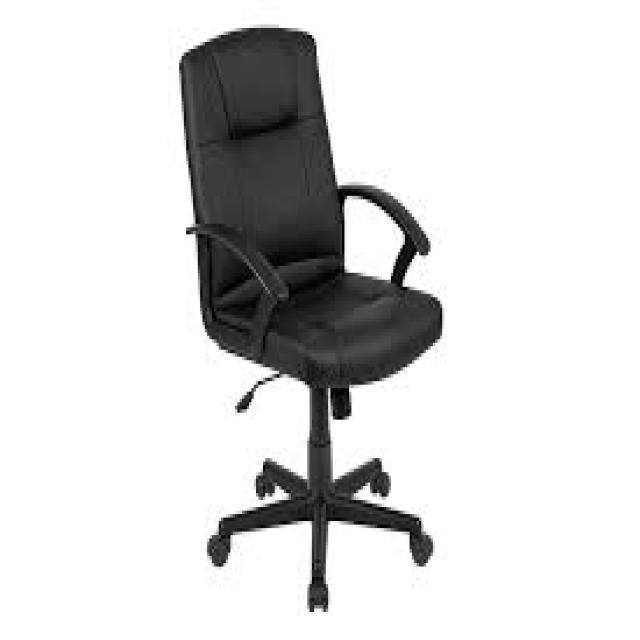chair: (133, 0, 459, 635)
